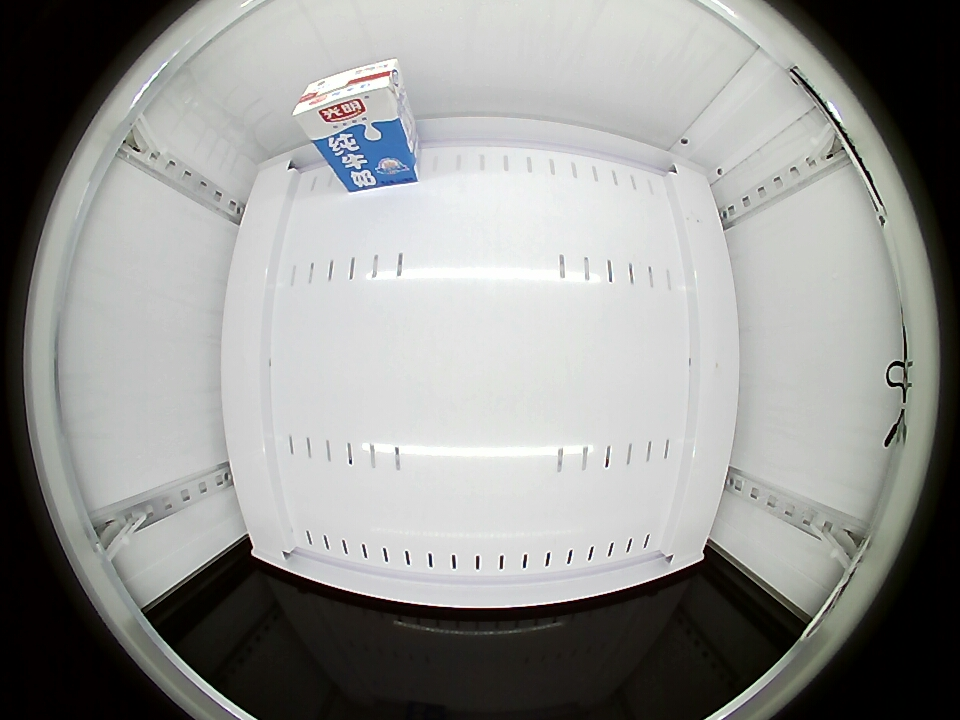niunai: (293, 58, 407, 142)
